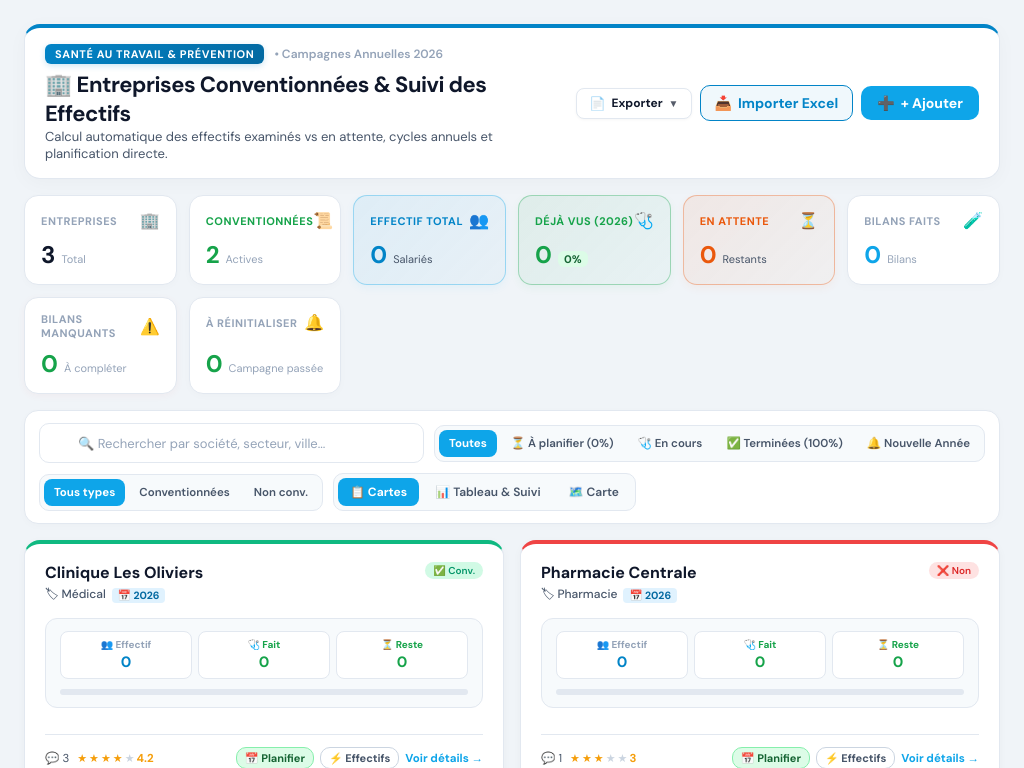
it: Entreprises page — liste › filters by conventionnée status
The image size is (1024, 768).
# Click the filter button (not the stat card span)
Click the button "Conventionnées" at (185, 492), box [129,478,240,506]
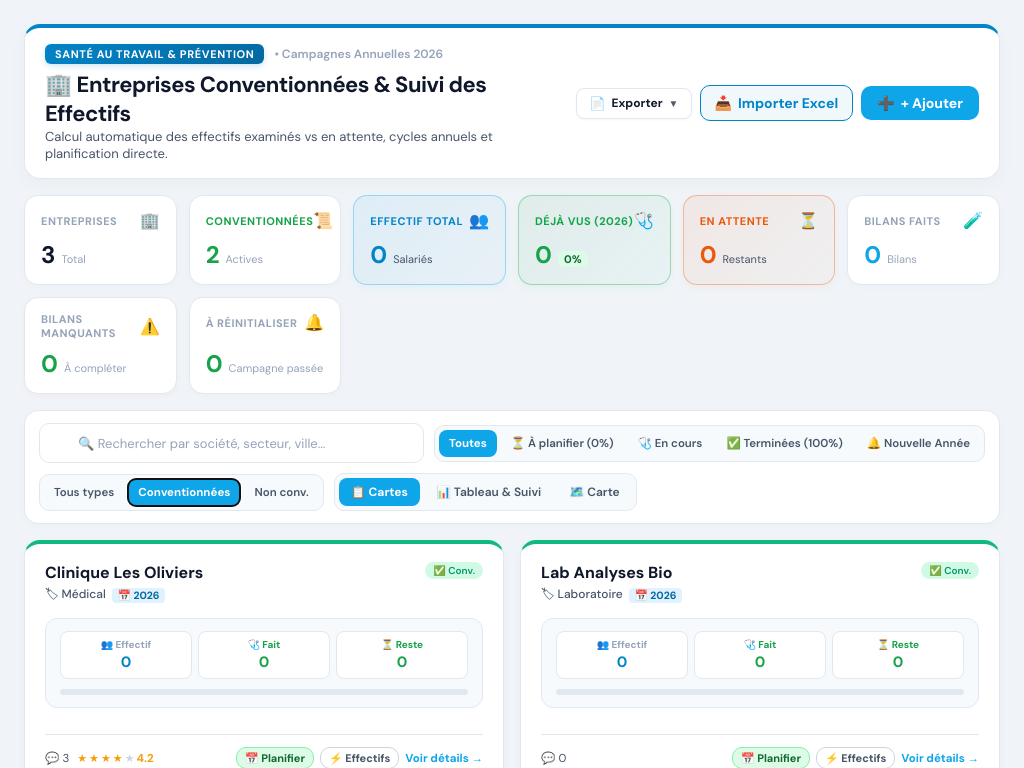
Check: the text "Clinique Les Oliviers" is shown, box [45,562,203,583]
Check: the text "Pharmacie Centrale" is gone
